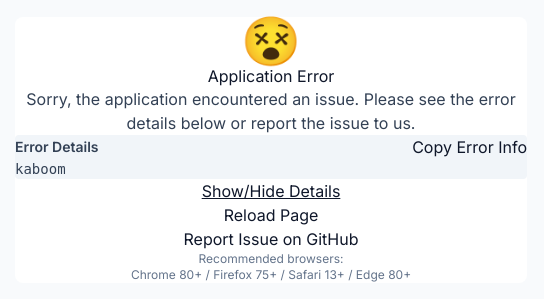
it: ErrorBoundary copy button › says so when copying is not possible
Click the button "Copy Error Info" at (470, 147), box x1=412 y1=135 x2=527 y2=159
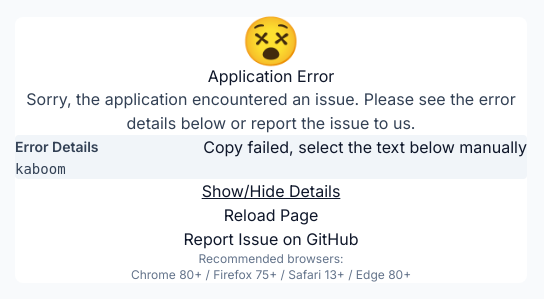
Result: the button "Copy failed, select the text below manually" is shown at x1=203 y1=135 x2=527 y2=159
